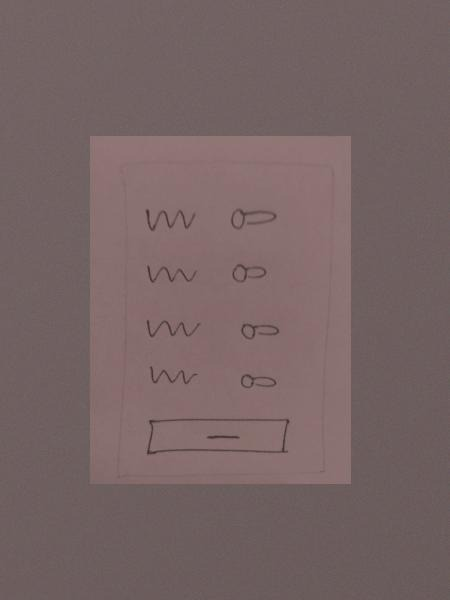button: (141, 412, 296, 458)
switch: (225, 200, 284, 234), (235, 314, 287, 345), (229, 258, 272, 294), (235, 367, 286, 397)
text: (138, 202, 206, 236), (142, 257, 206, 289), (143, 311, 207, 343), (143, 360, 208, 389)
